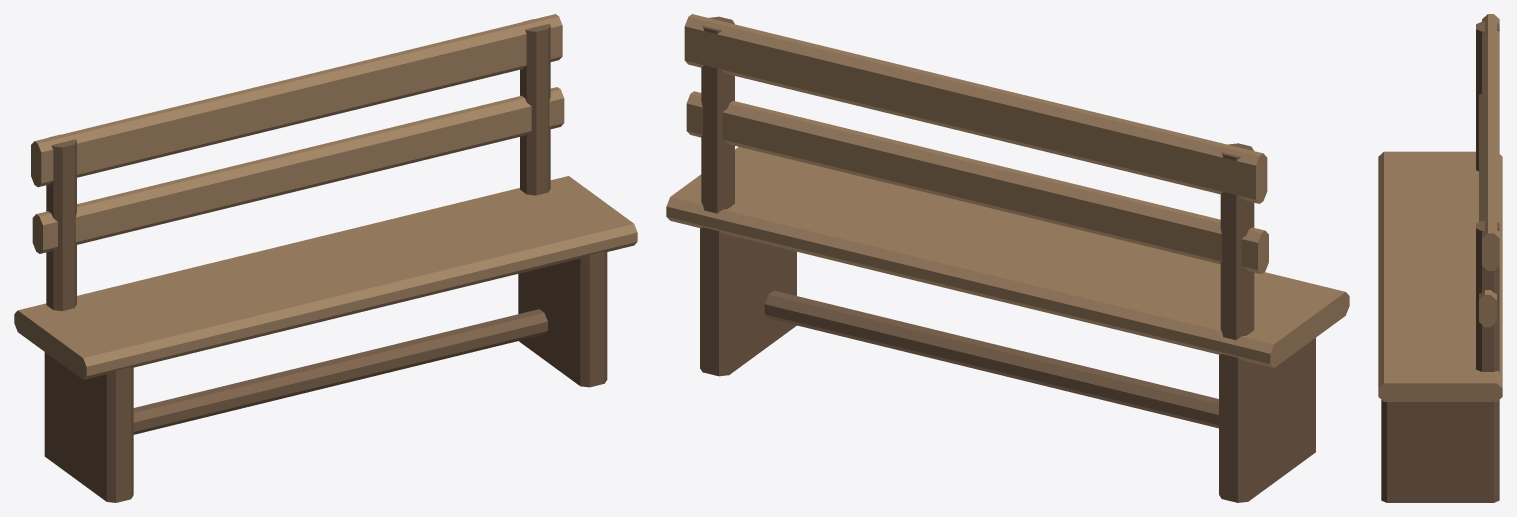
File: bench.glb
The picture shows the model from 3 angles, left to right: view 1: azimuth 30°, elevation 25°; view 2: azimuth 150°, elevation 25°; view 3: azimuth 270°, elevation 25°; orthographic projection. The views are drawn at different scales.
Visible parts, largest first — view 1: bench; view 2: bench; view 3: bench.
Part boxes in pixels (x1,y1,x2,y2): bench: (14,14,637,502); bench: (666,14,1349,502); bench: (1378,14,1502,502).
Bounding box in the file's own units: 1.85 × 1.02 × 0.42.
